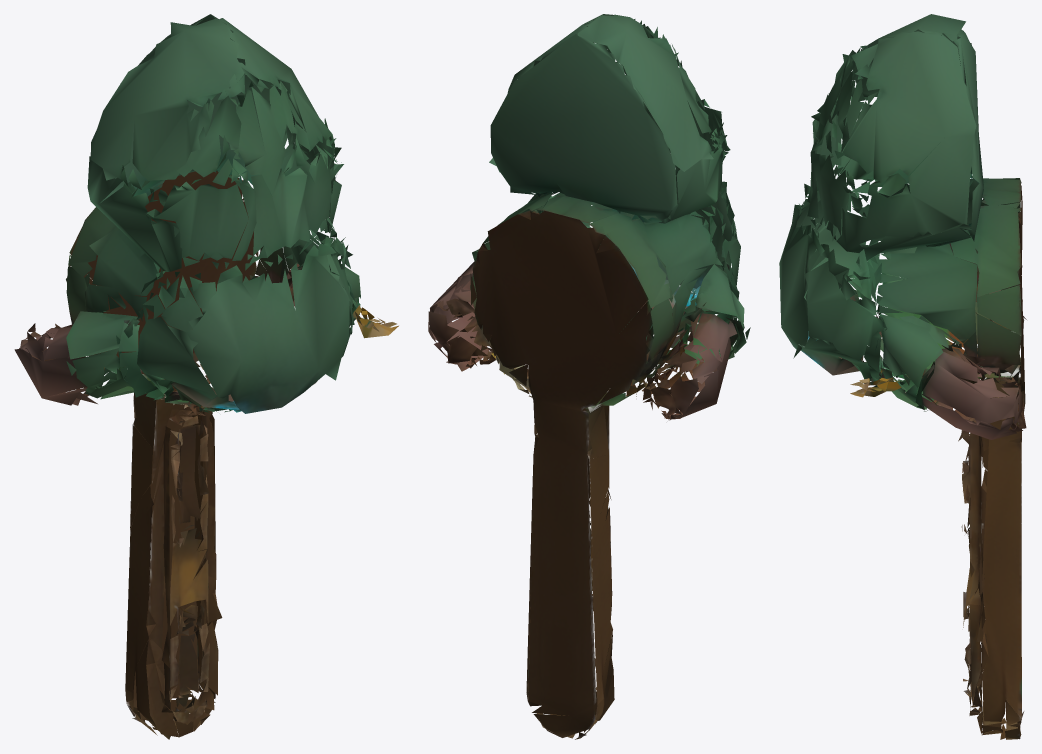
File: hero_scout_toon.glb
3 renders of one model, left to right at view 1: azimuth 30°, elevation 25°; view 2: azimuth 150°, elevation 25°; view 3: azimuth 270°, elevation 25°, orthographic. The views are drawn at different scales.
Visible parts, largest first — view 1: HeroScout.001; view 2: HeroScout.001; view 3: HeroScout.001.
Boxes of the visible parts, x1,y1,x2,y2 form: HeroScout.001: (14, 14, 398, 739); HeroScout.001: (428, 14, 750, 739); HeroScout.001: (779, 14, 1026, 739).
Size of the model in its own units: 0.8148 by 1.9 by 0.5989.
1 material, 1 textured.
